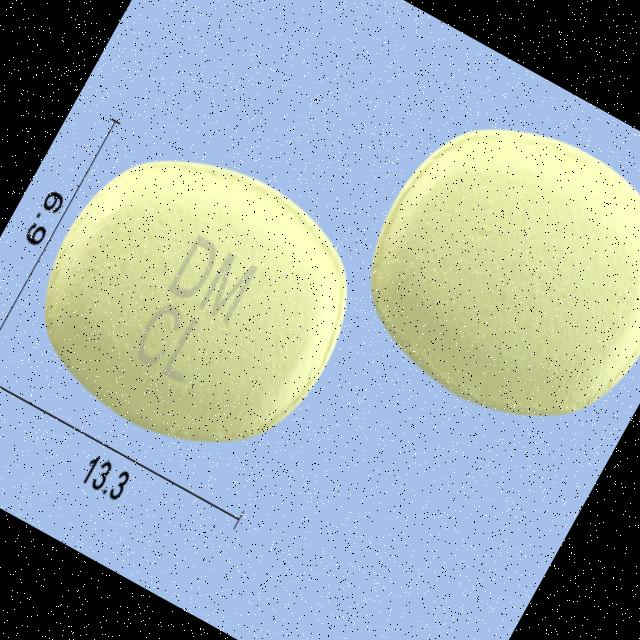Reclarcin Tab: (2, 108, 390, 490), (325, 81, 640, 465)
